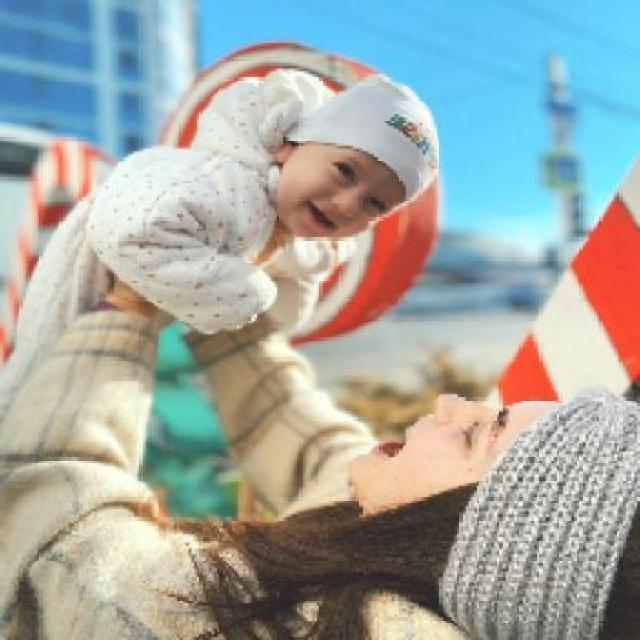child: (3, 66, 440, 337)
